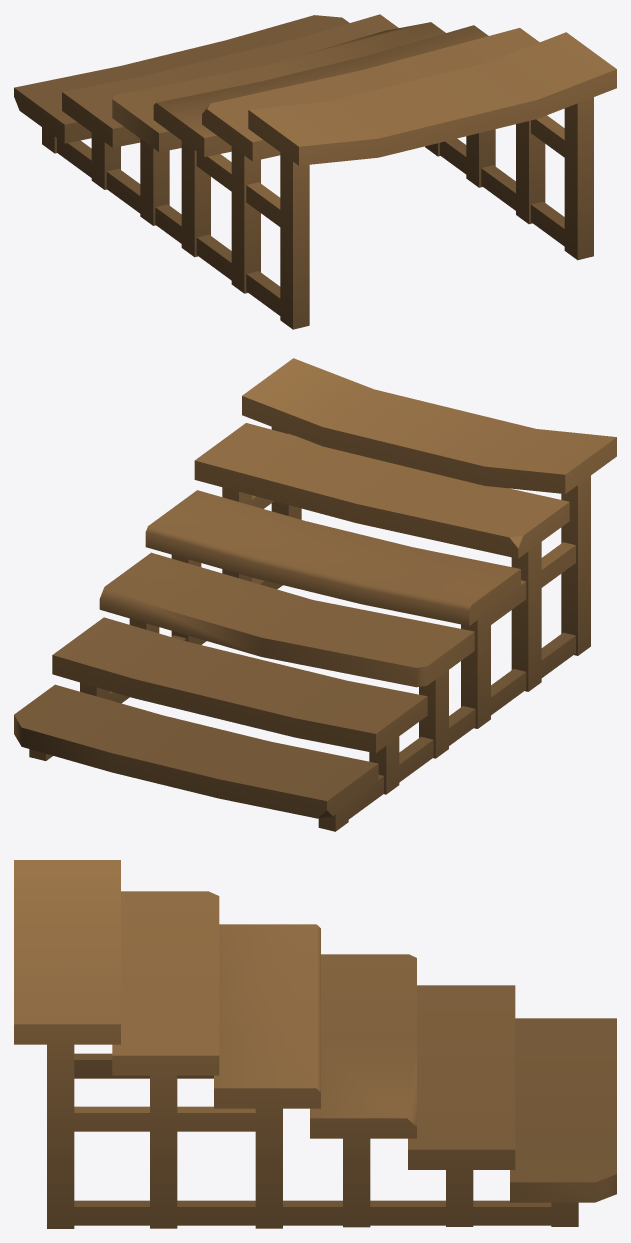
Rendered from Stairs_Long.fbx.
3 renders of one model, top to bottom at view 1: azimuth 30°, elevation 25°; view 2: azimuth 150°, elevation 25°; view 3: azimuth 270°, elevation 25°, orthographic. The views are drawn at different scales.
Visible parts, largest first — view 1: Cube.023; view 2: Cube.023; view 3: Cube.023.
Boxes of the visible parts, x1,y1,x2,y2 form: Cube.023: (14, 14, 616, 329); Cube.023: (14, 358, 616, 831); Cube.023: (14, 860, 616, 1228).
Size of the model in its own units: 366 by 217 by 568.
